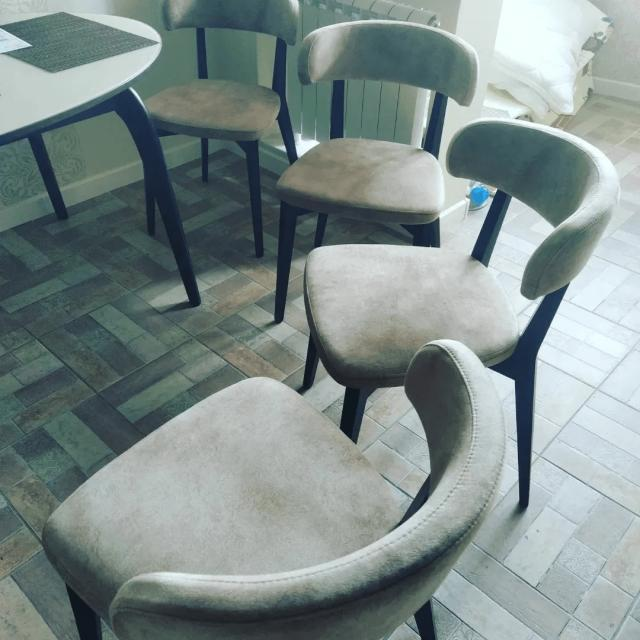chair: (36, 332, 511, 640), (296, 112, 620, 514), (298, 118, 608, 384), (264, 15, 482, 331), (132, 0, 306, 259), (276, 15, 474, 198), (142, 0, 304, 131)
